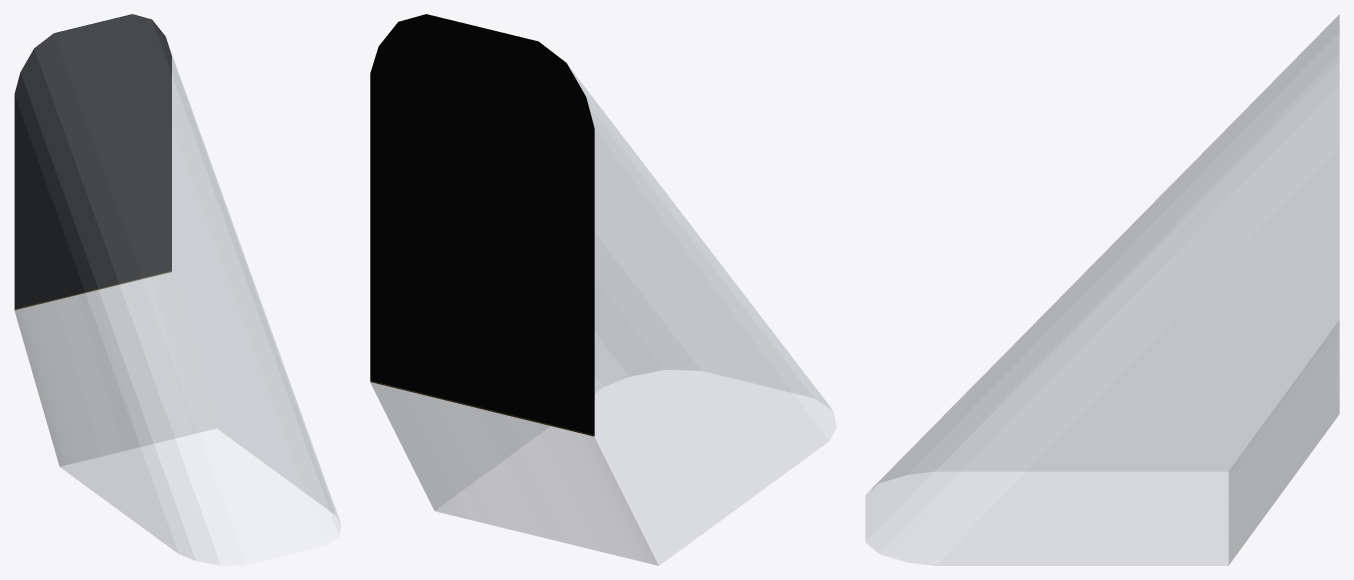
Rendered from Poly_Window_11_Light_A.obj.
The picture shows the model from 3 angles, left to right: view 1: azimuth 30°, elevation 25°; view 2: azimuth 150°, elevation 25°; view 3: azimuth 270°, elevation 25°; orthographic projection. The views are drawn at different scales.
Parts seen in each view (by area): view 1: Cube.001, Cube.002; view 2: Cube.001, Cube.002; view 3: Cube.001.
Part boxes in pixels (x1=…): Cube.001: x1=14, y1=14, x2=341, y2=565; Cube.002: x1=14, y1=14, x2=171, y2=310; Cube.001: x1=370, y1=67, x2=836, y2=565; Cube.002: x1=370, y1=14, x2=594, y2=436; Cube.001: x1=865, y1=14, x2=1339, y2=565.
Size of the model in its own units: 0.8 by 1.9 by 1.7.
Materials: 2 (2 with a texture image).
